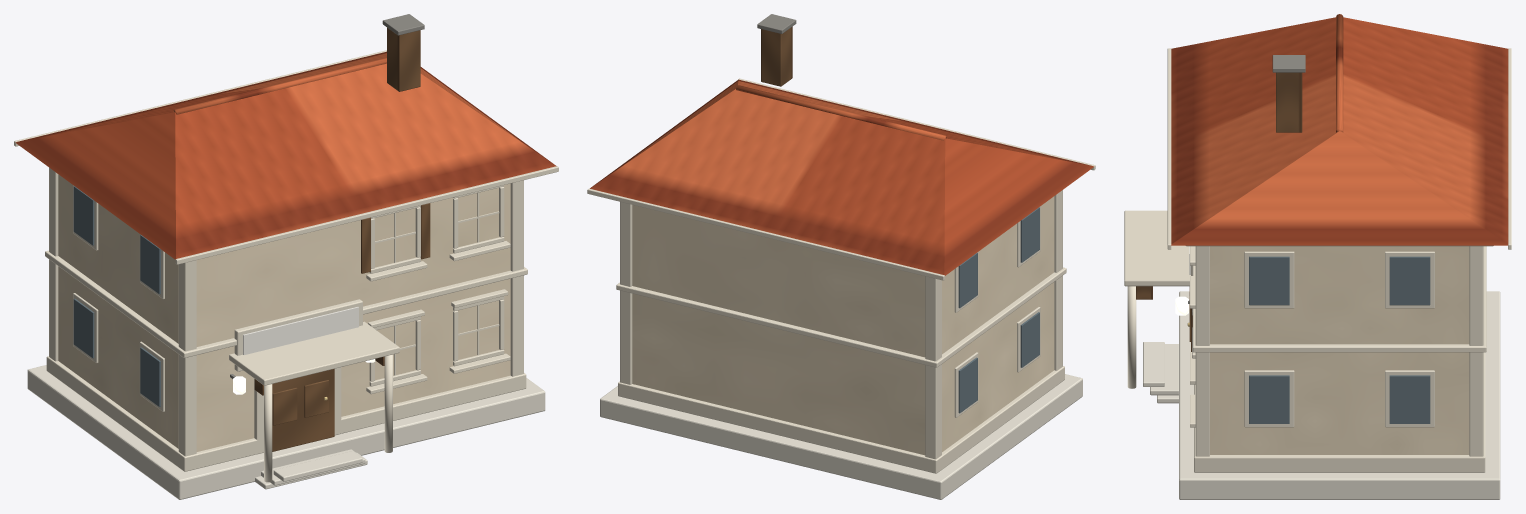
File: booking.glb
The picture shows the model from 3 angles, left to right: view 1: azimuth 30°, elevation 25°; view 2: azimuth 150°, elevation 25°; view 3: azimuth 270°, elevation 25°; orthographic projection. The views are drawn at different scales.
Parts seen in each view (by area): view 1: booking_wall, booking_roof_front, booking_plinth, booking_roof_left, booking_skirt, booking_canopy, booking_pil, booking_band, booking_door, booking_pil.002, booking_roof_eaveF, booking_signface (+17 smaller); view 2: booking_wall, booking_roof_back, booking_plinth, booking_roof_left, booking_skirt, booking_band, booking_pil.001, booking_pil.003, booking_roof_eaveB, booking_roof_front, booking_chim, booking_pil (+7 smaller); view 3: booking_wall, booking_roof_back, booking_roof_front, booking_roof_right, booking_plinth, booking_skirt, booking_canopy, booking_band, booking_pil.003, booking_pil.002, booking_sf1_1_1, booking_sf0_1_1 (+15 smaller).
Boxes of the visible parts, x1=… form: booking_wall: x1=58, y1=174, x2=510, y2=451; booking_roof_front: x1=175, y1=63, x2=556, y2=258; booking_plinth: x1=27, y1=365, x2=545, y2=499; booking_roof_left: x1=15, y1=112, x2=175, y2=259; booking_skirt: x1=46, y1=356, x2=526, y2=471; booking_canopy: x1=229, y1=321, x2=399, y2=385; booking_pil: x1=178, y1=260, x2=196, y2=456; booking_band: x1=45, y1=250, x2=527, y2=357; booking_door: x1=272, y1=369, x2=334, y2=451; booking_pil.002: x1=510, y1=180, x2=523, y2=376; booking_roof_eaveF: x1=175, y1=166, x2=558, y2=264; booking_signface: x1=243, y1=307, x2=358, y2=354; booking_wall: x1=632, y1=196, x2=1054, y2=455; booking_roof_back: x1=590, y1=89, x2=945, y2=274; booking_plinth: x1=600, y1=374, x2=1082, y2=499; booking_roof_left: x1=944, y1=138, x2=1093, y2=275; booking_skirt: x1=618, y1=366, x2=1064, y2=473; booking_band: x1=616, y1=267, x2=1066, y2=367; booking_pil.001: x1=925, y1=276, x2=941, y2=459; booking_pil.003: x1=620, y1=202, x2=632, y2=384; booking_roof_eaveB: x1=587, y1=188, x2=944, y2=280; booking_roof_front: x1=738, y1=79, x2=1090, y2=165; booking_chim: x1=761, y1=26, x2=792, y2=86; booking_pil: x1=1054, y1=190, x2=1062, y2=370; booking_wall: x1=1210, y1=246, x2=1469, y2=454; booking_roof_back: x1=1340, y1=17, x2=1508, y2=244; booking_roof_front: x1=1171, y1=17, x2=1338, y2=243; booking_roof_right: x1=1171, y1=131, x2=1507, y2=245; booking_plinth: x1=1179, y1=291, x2=1500, y2=499; booking_skirt: x1=1194, y1=352, x2=1485, y2=472; booking_canopy: x1=1124, y1=210, x2=1190, y2=286; booking_band: x1=1192, y1=246, x2=1486, y2=352; booking_pil.003: x1=1469, y1=246, x2=1483, y2=456; booking_pil.002: x1=1195, y1=246, x2=1209, y2=456; booking_sf1_1_1: x1=1389, y1=256, x2=1430, y2=305; booking_sf0_1_1: x1=1389, y1=375, x2=1430, y2=423.
Bounding box in the file's own units: 14.9 × 13.88 × 12.41.
12 materials, 4 textured.
